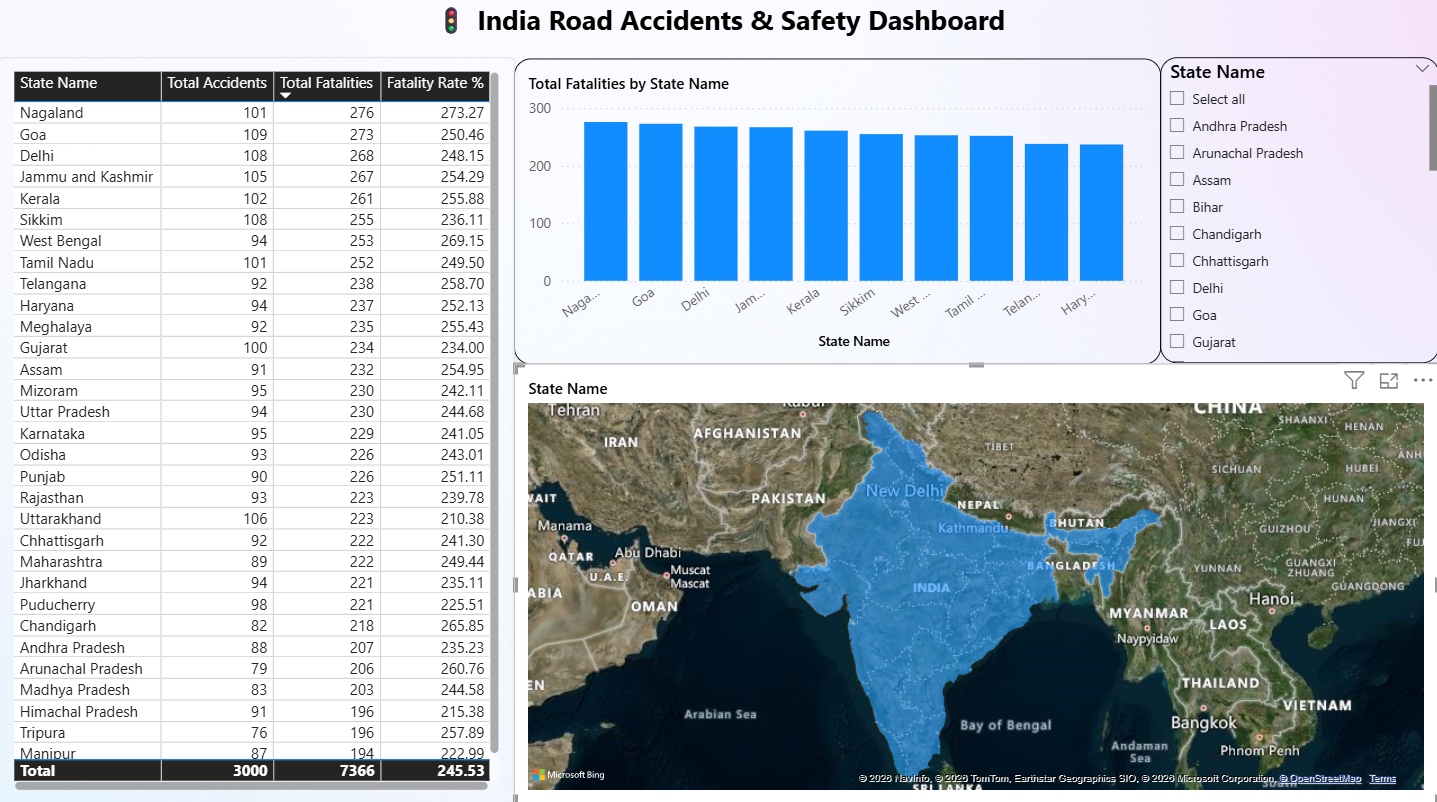

Layout of this report page (visuals, bound fields, positions):
{"tool":"powerbi","page":{"name":"Location Analysis","canvas":[1280,720],"ordinal":1},"visuals":[{"type":"clusteredColumnChart","fields":{"Category":["accident_prediction_india.State Name"],"Y":["accident_prediction_india.Total Fatalities"]},"box":[458,55,575,272],"z":0},{"type":"tableEx","fields":{"Values":["accident_prediction_india.State Name","accident_prediction_india.Total Accidents","accident_prediction_india.Total Fatalities","accident_prediction_india.Fatality Rate %"]},"box":[0,54.7,458.1,665.1],"z":1000},{"type":"slicer","fields":{"Values":["accident_prediction_india.State Name"]},"box":[1032.6,54.7,247.7,272.1],"z":2000},{"type":"textbox","box":[0,0,1280,55],"z":3000},{"type":"filledMap","fields":{"Category":["accident_prediction_india.State Name"]},"box":[458.1,326.7,822.1,393],"z":4000}]}

Visuals, with their boxes in screenshot pixels (x1, y1, x2, y2), scaled from the page's 1280x720 canvas onto the 1437x802 screenshot:
clusteredColumnChart - accident_prediction_india.State Name x accident_prediction_india.Total Fatalities: <region>514, 61, 1160, 364</region>
tableEx - accident_prediction_india.State Name x accident_prediction_india.Total Accidents: <region>0, 61, 514, 801</region>
slicer - accident_prediction_india.State Name: <region>1159, 61, 1436, 364</region>
textbox: <region>0, 0, 1436, 61</region>
filledMap - accident_prediction_india.State Name: <region>514, 364, 1436, 801</region>
